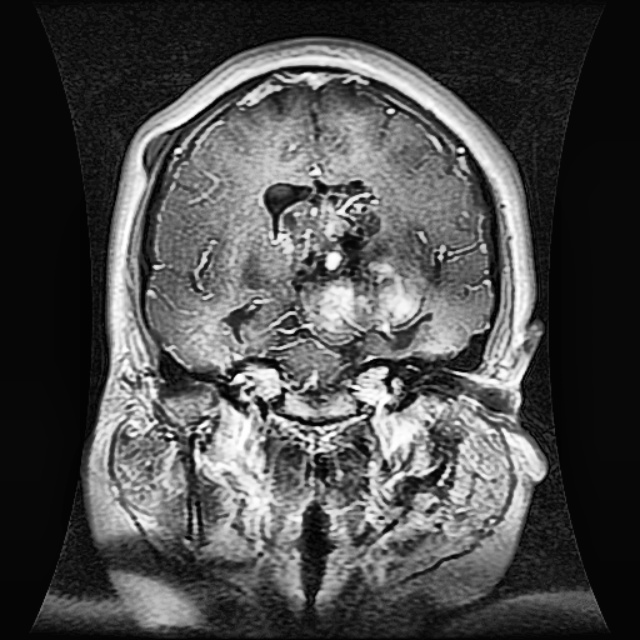Meningioma: (260, 177, 432, 343)
